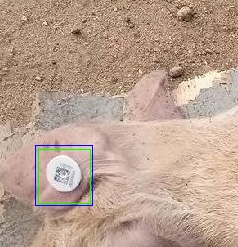text: (38, 149, 90, 203)
